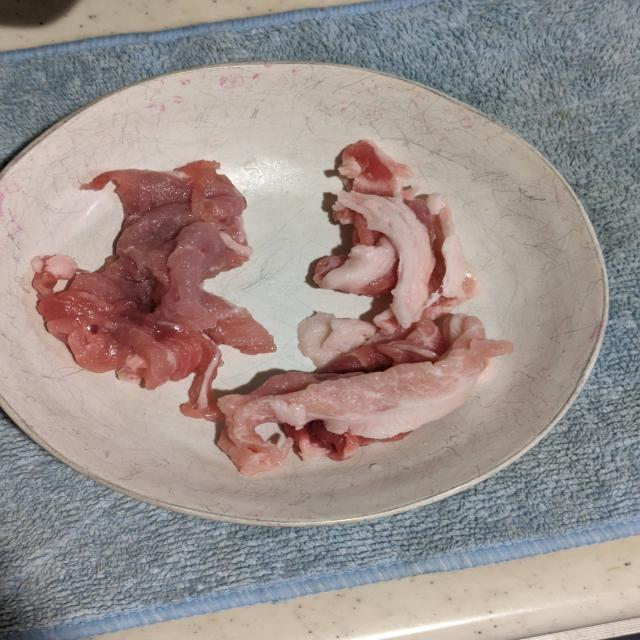NG raw pork,: (26, 149, 291, 427), (215, 307, 526, 484), (288, 134, 500, 334)
